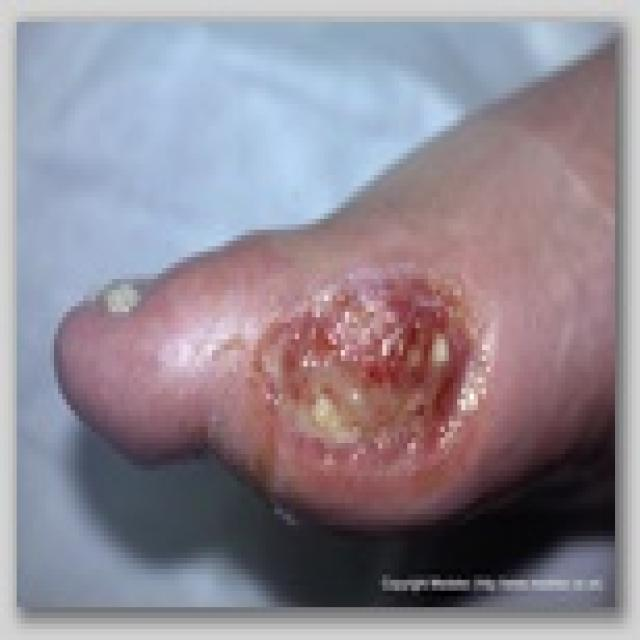wound: (250, 257, 490, 476)
